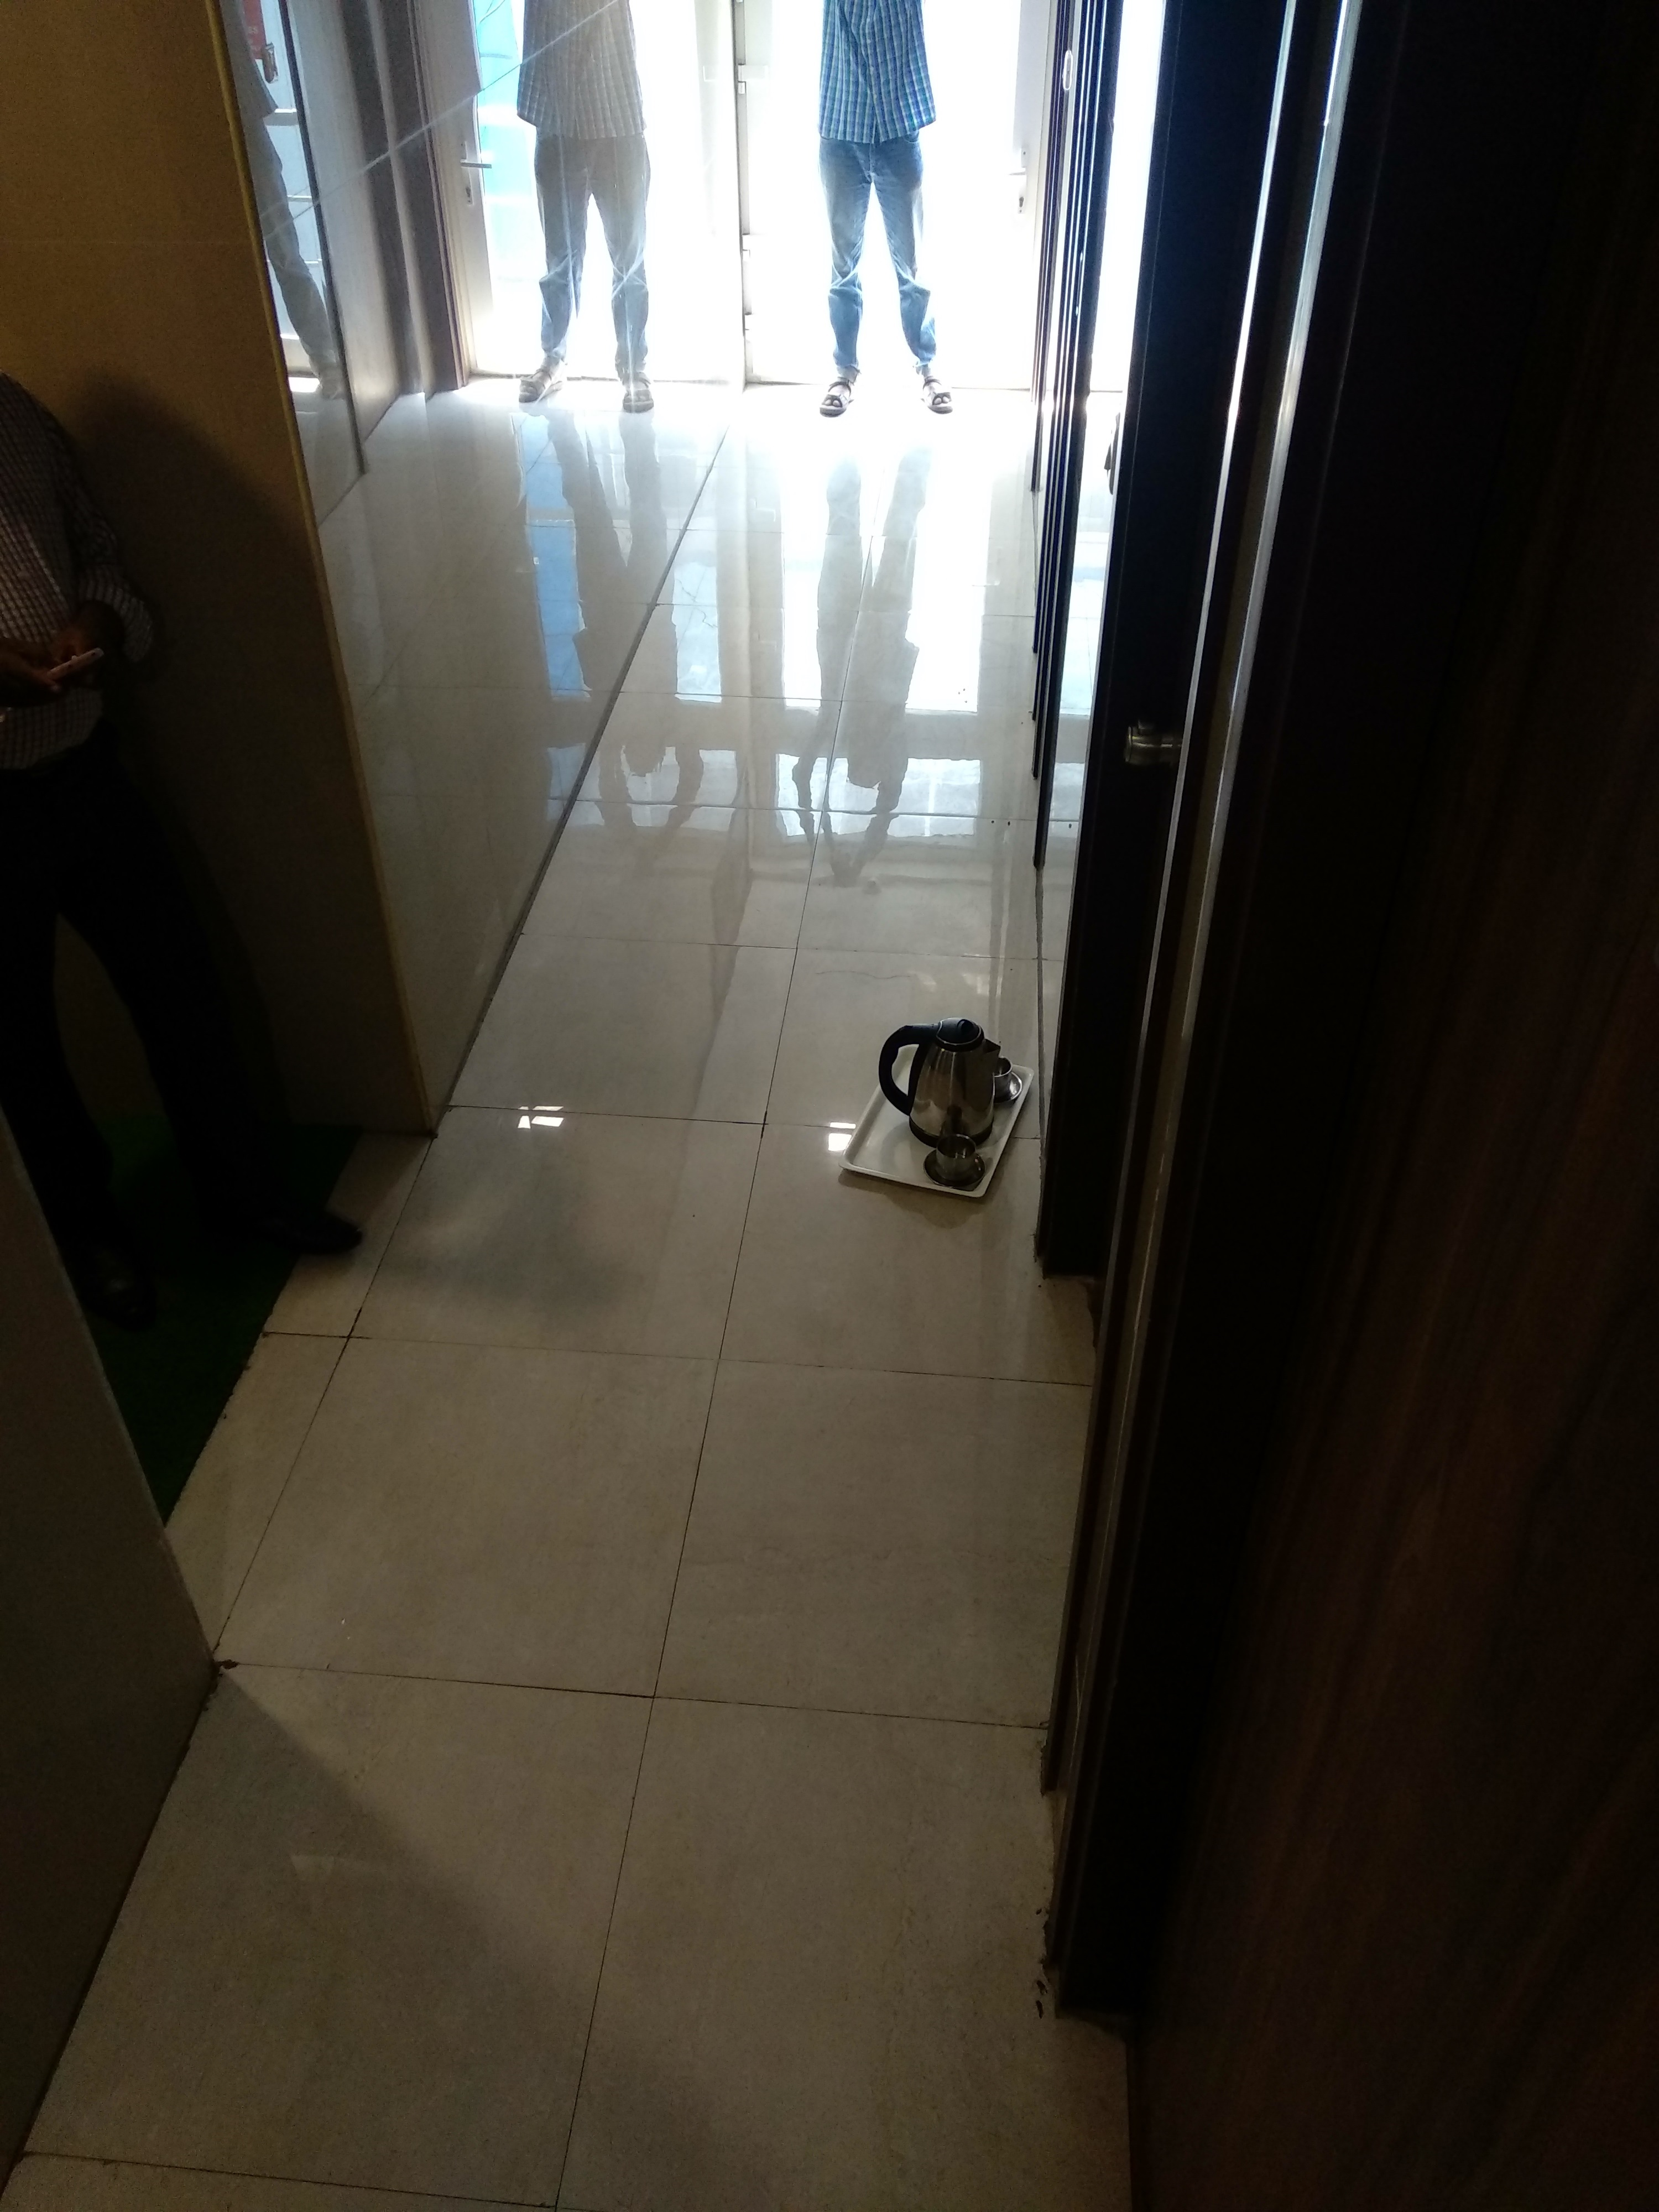CUP: (934, 1137, 979, 1184)
JUG: (887, 1019, 1002, 1134)
